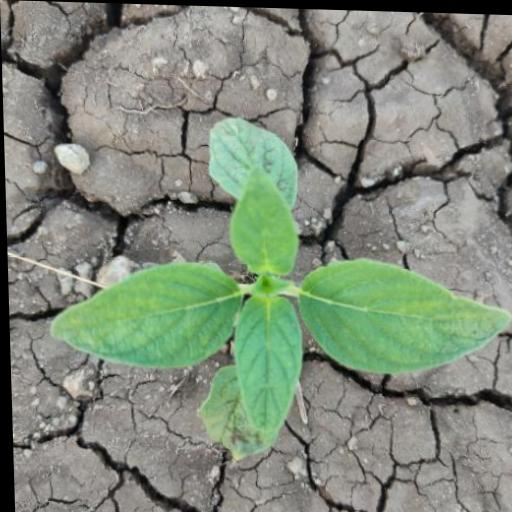crop: (40, 160, 512, 455)
